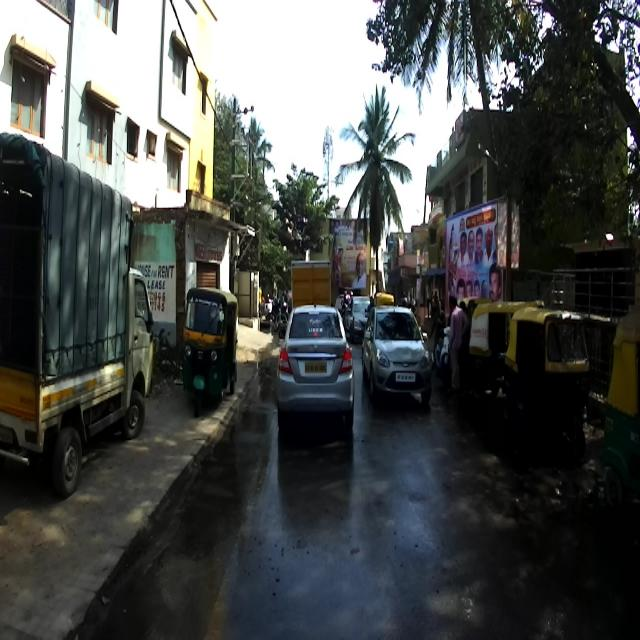Car_Ford: (361, 304, 431, 408)
Car_Maruti-Suzuki: (276, 304, 354, 430)
autorickshaw: (504, 306, 591, 466), (467, 299, 544, 409), (181, 286, 237, 415)
